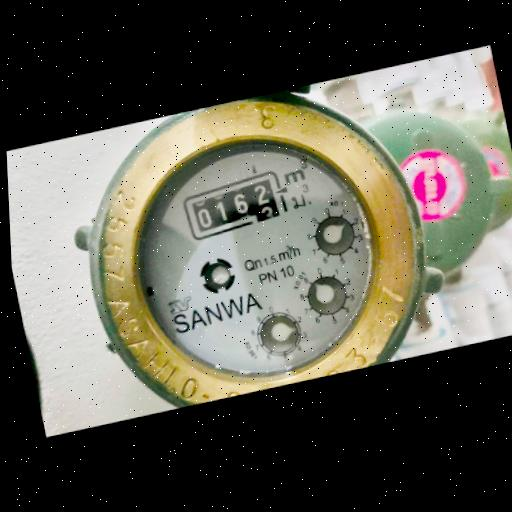0: (190, 196, 219, 233)
1: (209, 192, 237, 228)
2: (245, 177, 280, 224)
6: (225, 185, 255, 223)
border_water_meter_number: (177, 168, 289, 243)
